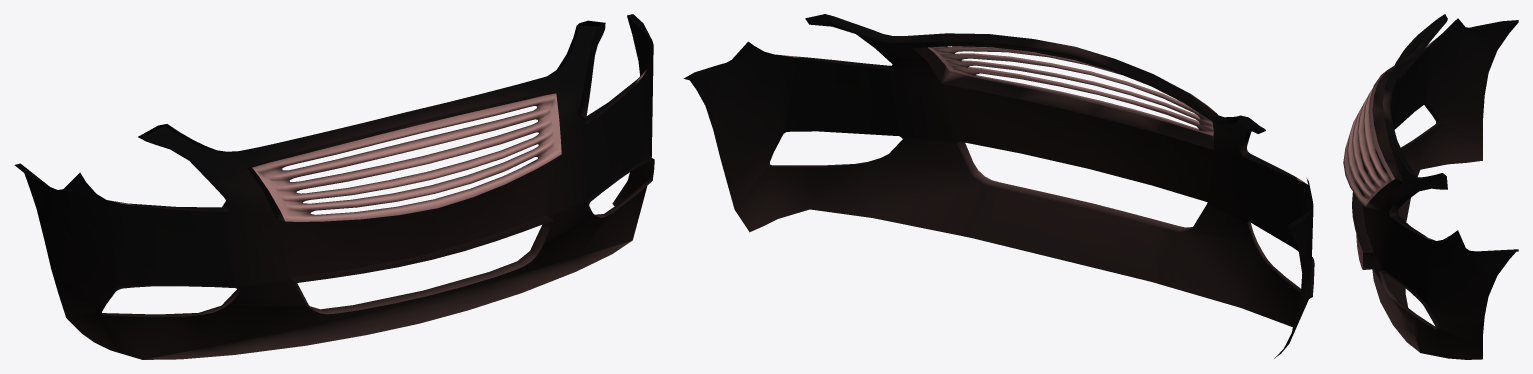
File: G37_FB_03_Trim.fbx
The picture shows the model from 3 angles, left to right: view 1: azimuth 30°, elevation 25°; view 2: azimuth 150°, elevation 25°; view 3: azimuth 270°, elevation 25°; orthographic projection. The views are drawn at different scales.
Parts seen in each view (by area): view 1: G37_FB_03_Trim; view 2: G37_FB_03_Trim; view 3: G37_FB_03_Trim.
Boxes of the visible parts, left/top/right/bottom form: G37_FB_03_Trim: left=14, top=14, right=654, bottom=359; G37_FB_03_Trim: left=683, top=14, right=1314, bottom=358; G37_FB_03_Trim: left=1343, top=14, right=1518, bottom=359.
Bounding box in the file's own units: 180 × 60.27 × 57.73.
